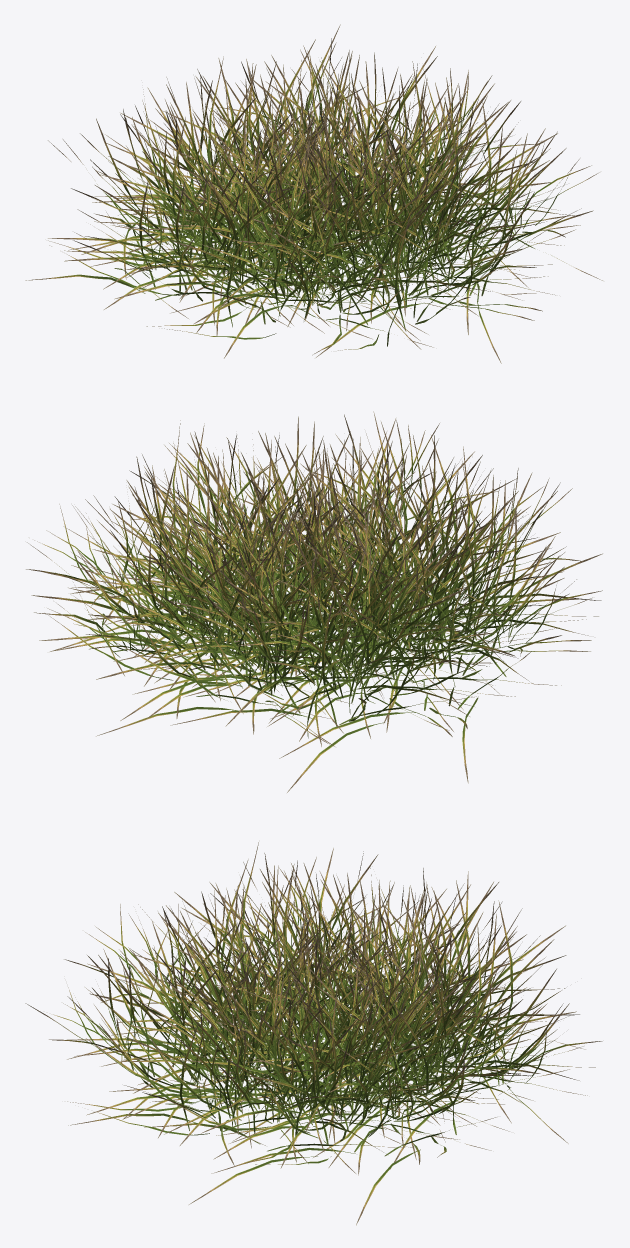
The model's file is grass_blades.glb.
3 views of the same model, one above another, from view 1: azimuth 30°, elevation 25°; view 2: azimuth 150°, elevation 25°; view 3: azimuth 270°, elevation 25° (orthographic). The views are drawn at different scales.
Visible parts, largest first — view 1: Object_2; view 2: Object_2; view 3: Object_2.
Boxes of the visible parts, left/top/right/bottom form: Object_2: left=25, top=24, right=602, bottom=363; Object_2: left=26, top=411, right=602, bottom=792; Object_2: left=25, top=842, right=602, bottom=1225.
Bounding box in the file's own units: 42.51 × 15.1 × 42.5.
1 material, 1 textured.
